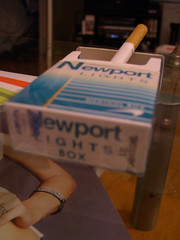cigarette: (4, 44, 166, 179), (111, 23, 149, 65)
